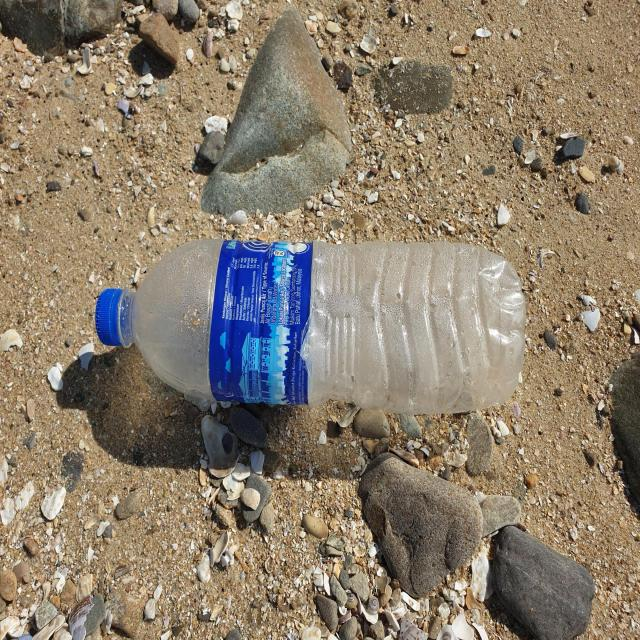plastic: (95, 239, 527, 414)
